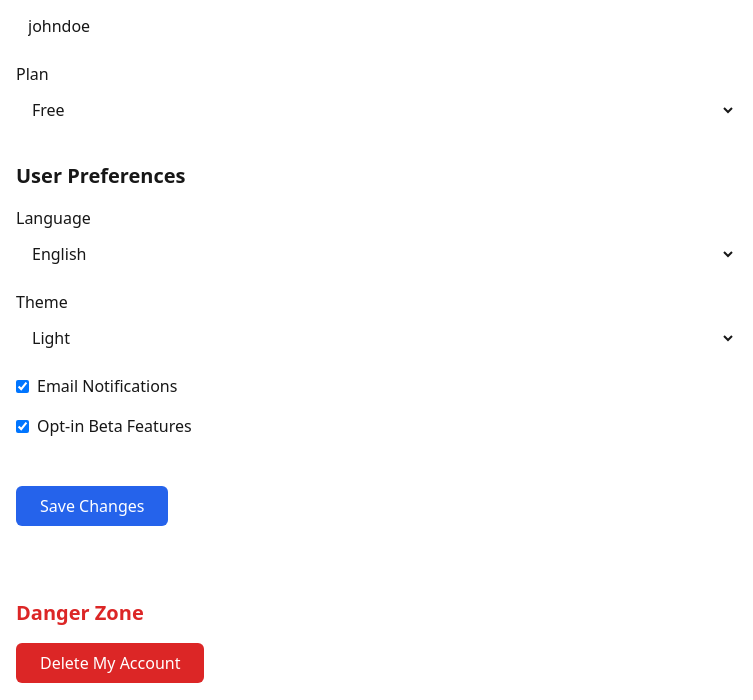
Scenario: SettingsPage › handles update failure on form submit
The image size is (753, 700).
(page scrolled)
Check: the field showing "johndoe" is shown, box [16,6,736,46]
Click the button "Save Changes". click: click(92, 506)
box: [16,486,168,526]
(page scrolled)
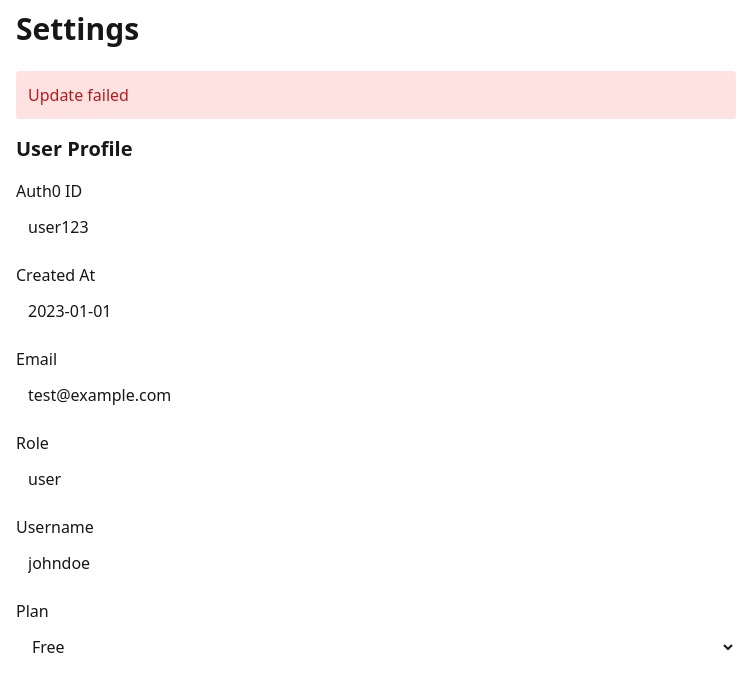
Check: the text "Update failed" is shown, box [16,71,736,119]
